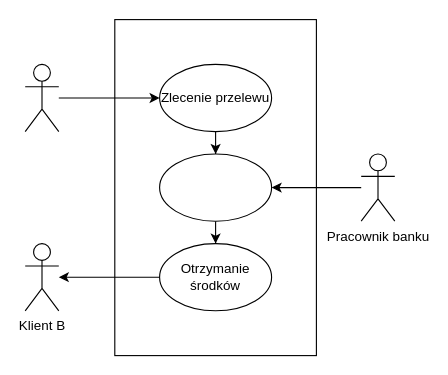
The diagram is 448 pixels wide and 375 high, and some of its shapes have lost their labels. Each missing label, with the box of its shape:
Klient A: (24, 63, 59, 132)
Zaksięgowanie lub odrzucenie przelewu: (158, 153, 272, 221)
